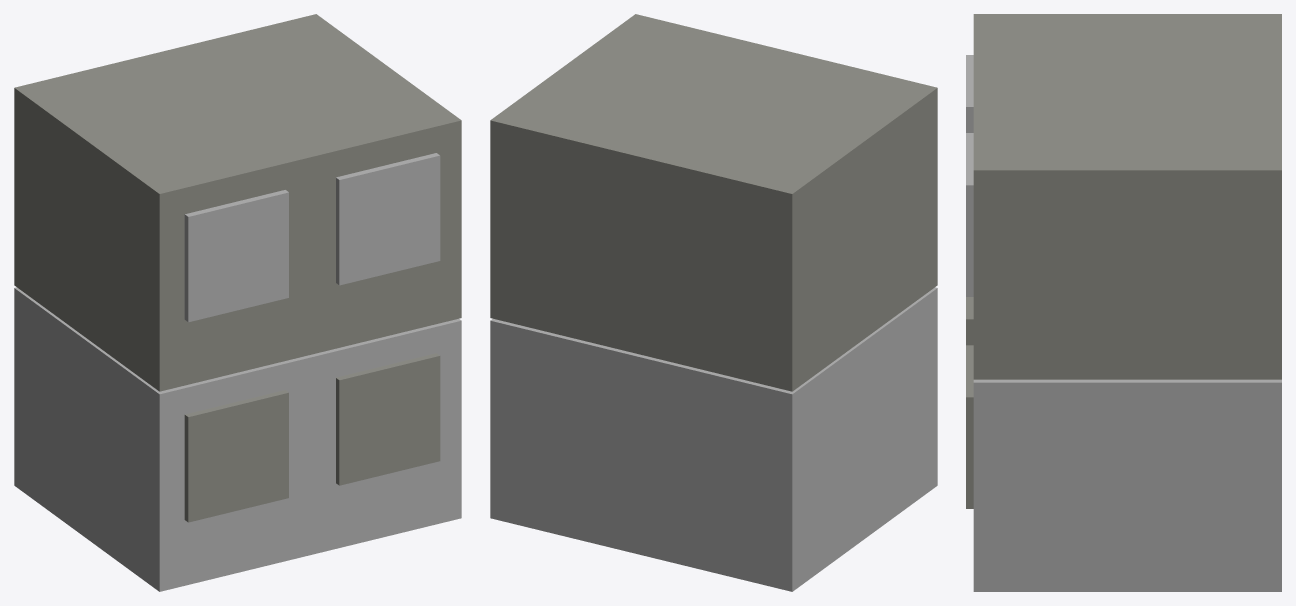
The model's file is SM_Palots_v0_Pila2_LOD0.fbx.
3 views of the same model, side by side, from view 1: azimuth 30°, elevation 25°; view 2: azimuth 150°, elevation 25°; view 3: azimuth 270°, elevation 25° (orthographic). The views are drawn at different scales.
Parts seen in each view (by area): view 1: SM_viveres_nules_v20_LOD0; view 2: SM_viveres_nules_v20_LOD0; view 3: SM_viveres_nules_v20_LOD0.
Part boxes in pixels (x1,y1,x2,y2): SM_viveres_nules_v20_LOD0: (14,14,461,591); SM_viveres_nules_v20_LOD0: (490,14,937,591); SM_viveres_nules_v20_LOD0: (966,14,1281,591).
Size of the model in its own units: 1.2 by 1.51 by 1.02.
